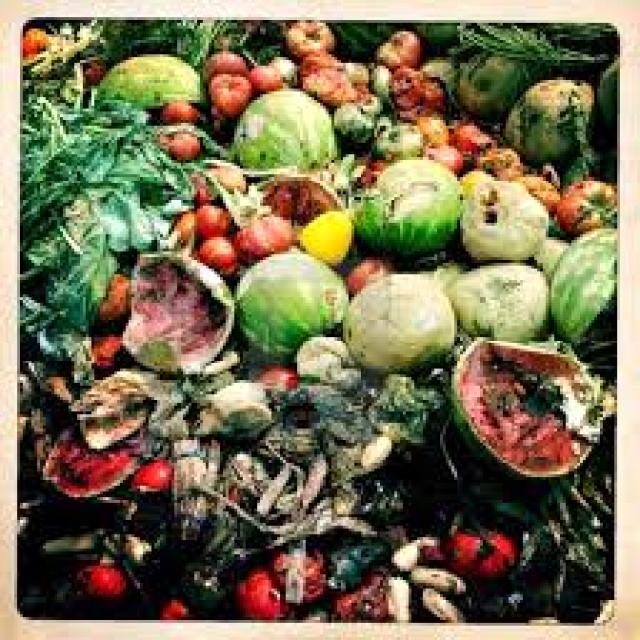Garbage: (20, 18, 614, 620)
